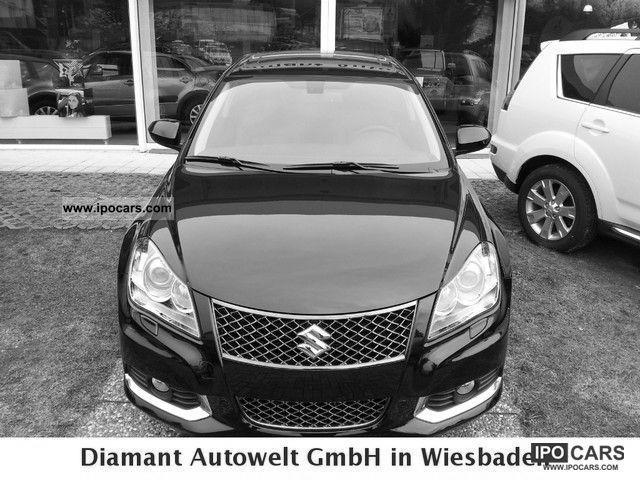car: (117, 53, 513, 439)
